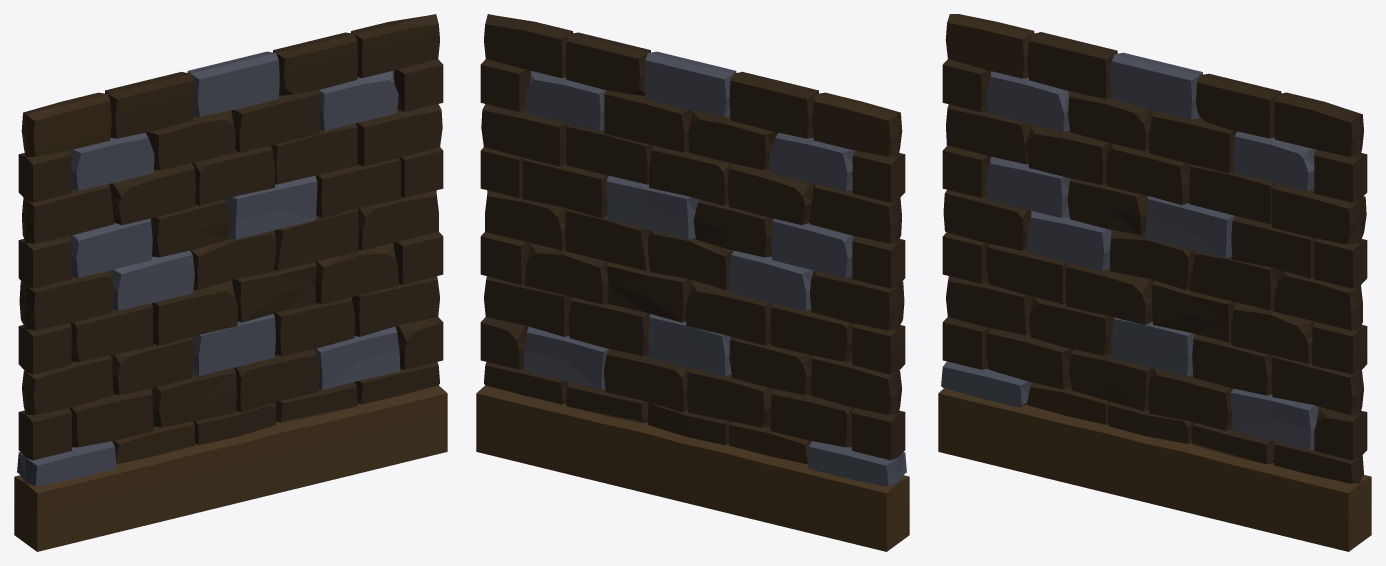
File: Wall_04.fbx
3 renders of one model, left to right at view 1: azimuth 30°, elevation 25°; view 2: azimuth 150°, elevation 25°; view 3: azimuth 330°, elevation 25°, orthographic.
Visible parts, largest first — view 1: Wall_04; view 2: Wall_04; view 3: Wall_04.
Part boxes in pixels (<box>): Wall_04: <box>14,14,447,551</box>; Wall_04: <box>476,14,909,551</box>; Wall_04: <box>938,14,1371,551</box>.
Bounding box in the file's own units: 4 × 4 × 0.3879.
